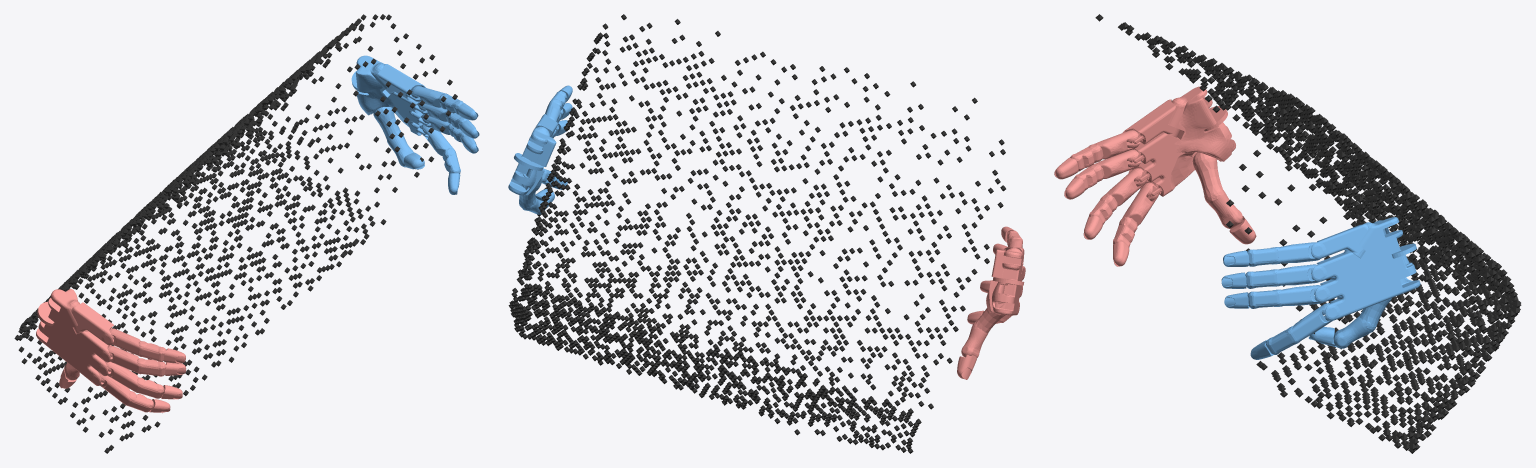
File: mujoco_Office_Depot_Dell_Series_1_Remanufactured_Ink_Cartridge_Black_scale036_inference.glb
3 renders of one model, left to right at view 1: azimuth 30°, elevation 25°; view 2: azimuth 150°, elevation 25°; view 3: azimuth 270°, elevation 25°, orthographic. The views are drawn at different scales.
Visible parts, largest first — view 1: object_pointcloud, left_shadow_hand, right_shadow_hand; view 2: object_pointcloud, left_shadow_hand, right_shadow_hand; view 3: object_pointcloud, right_shadow_hand, left_shadow_hand.
Part boxes in pixels (x1,y1,x2,y2): object_pointcloud: (14, 14, 457, 453); left_shadow_hand: (36, 289, 186, 412); right_shadow_hand: (351, 55, 479, 194); object_pointcloud: (508, 14, 1005, 453); left_shadow_hand: (957, 226, 1025, 379); right_shadow_hand: (508, 85, 572, 214); object_pointcloud: (1095, 14, 1521, 453); right_shadow_hand: (1221, 217, 1420, 359); left_shadow_hand: (1054, 86, 1256, 266).
Size of the model in its own units: 0.6566 by 0.5131 by 0.4971.
